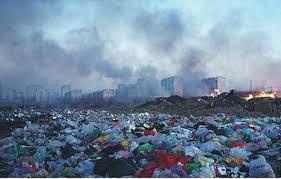fire: (242, 85, 280, 99)
